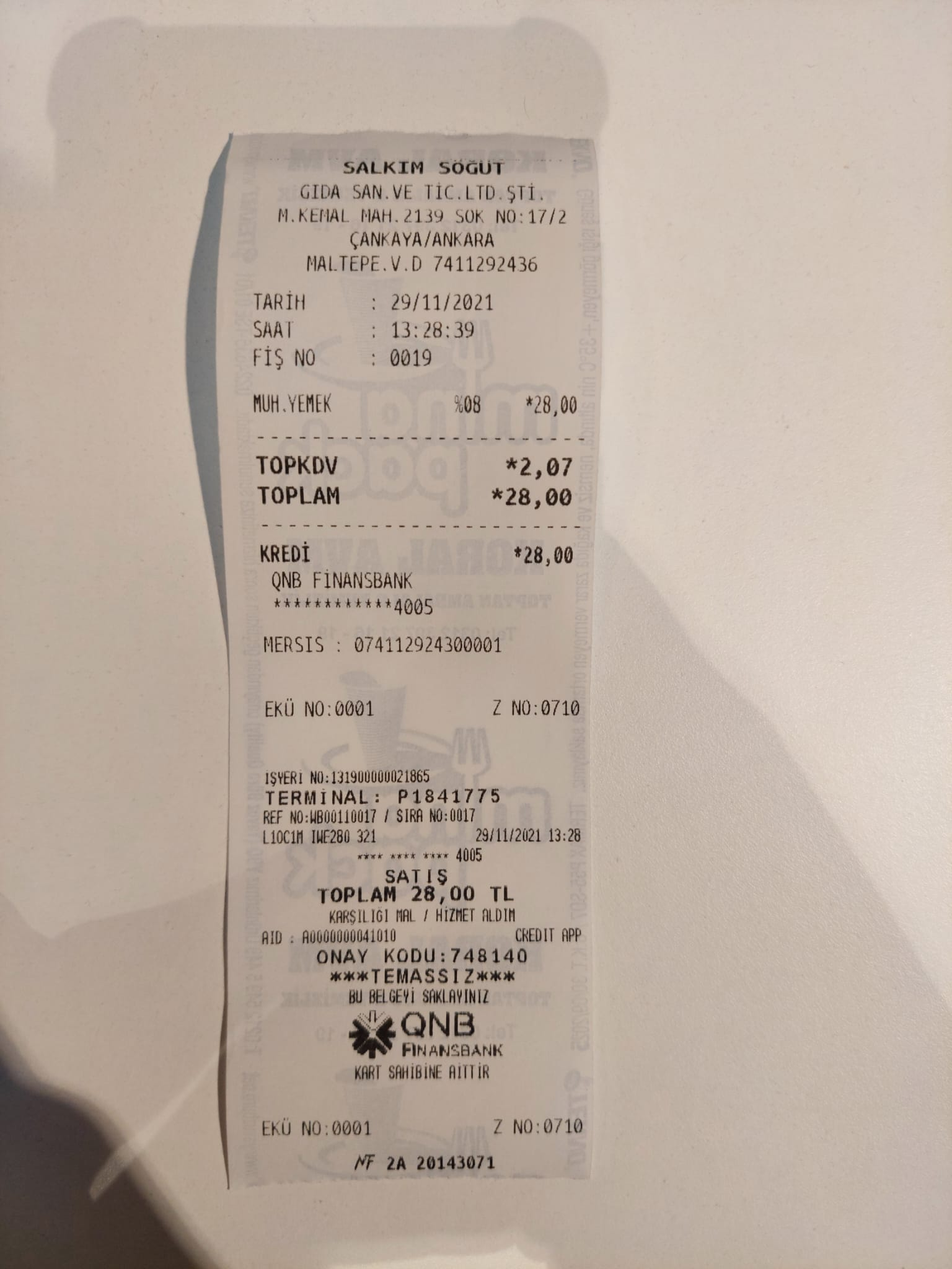date: (501, 482, 581, 519)
price: (384, 288, 499, 318)
workplace: (254, 151, 584, 250)
